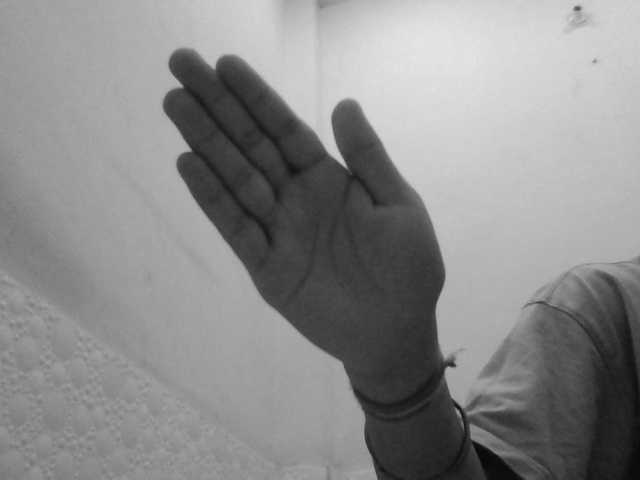Hello: (156, 46, 457, 399)
